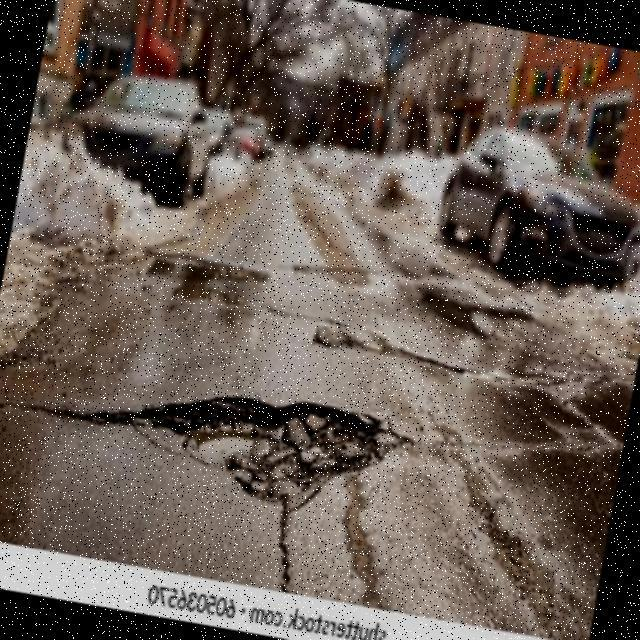Pothole: (26, 395, 413, 518), (133, 255, 270, 299), (418, 296, 489, 340)
